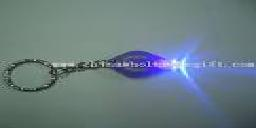LED: (155, 39, 202, 87)
